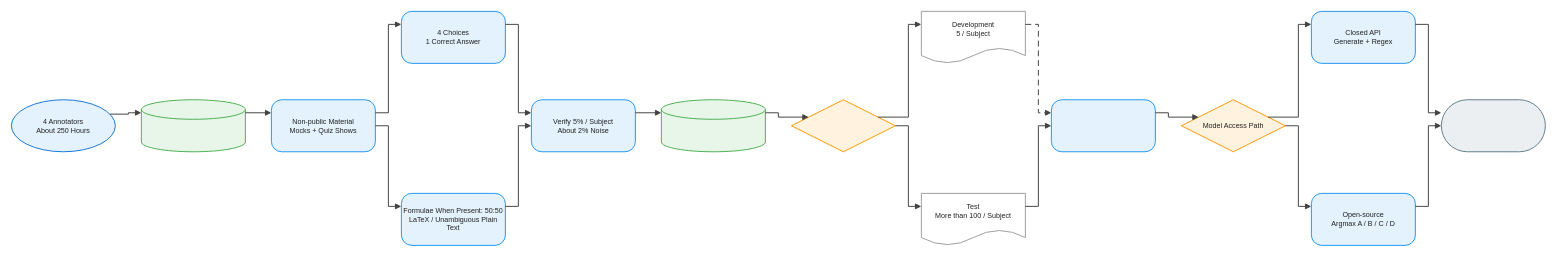
This 1557x257 diagram has some shape labels left out. The shapes that lost their labels are listed below. From the top down, each one's centre as x and y in pixels, then its label:
the point at 193,125: Free Resources 80%+ PDF after OCR
the point at 713,125: 11,528 Questions 67 Subjects
the point at 843,125: Per-subject Split
the point at 1103,125: Zero-shot or Optional 5-shot Dev Examples
the point at 1493,125: Subject Macro Accuracy
